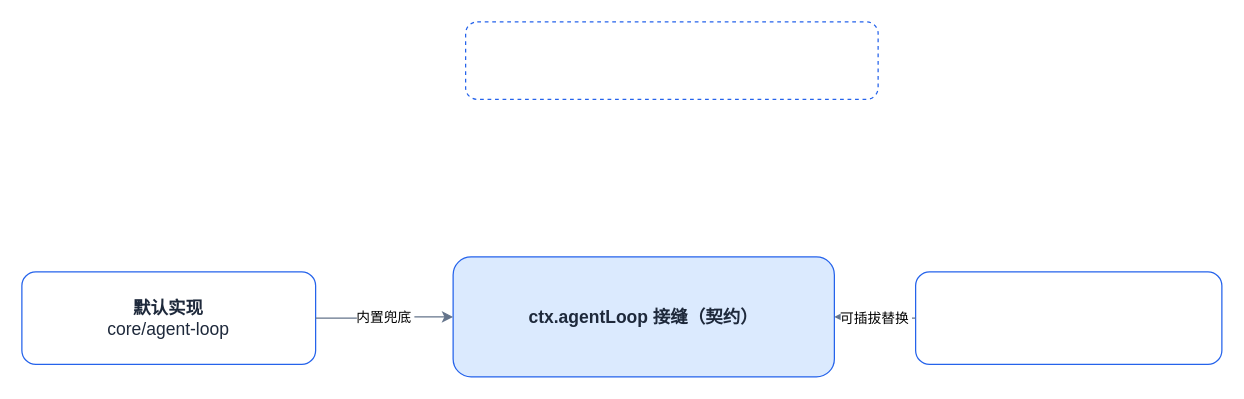
Some shapes in this 1244 by 399 pixel diagram are drawn without their labels. The centre of each missing label's shape, as x and y in pixels:
"你的实现 your-package" belongs at pixel 1068 317.
"能力 = 一个接口 + 一个默认实现" belongs at pixel 671 60.
